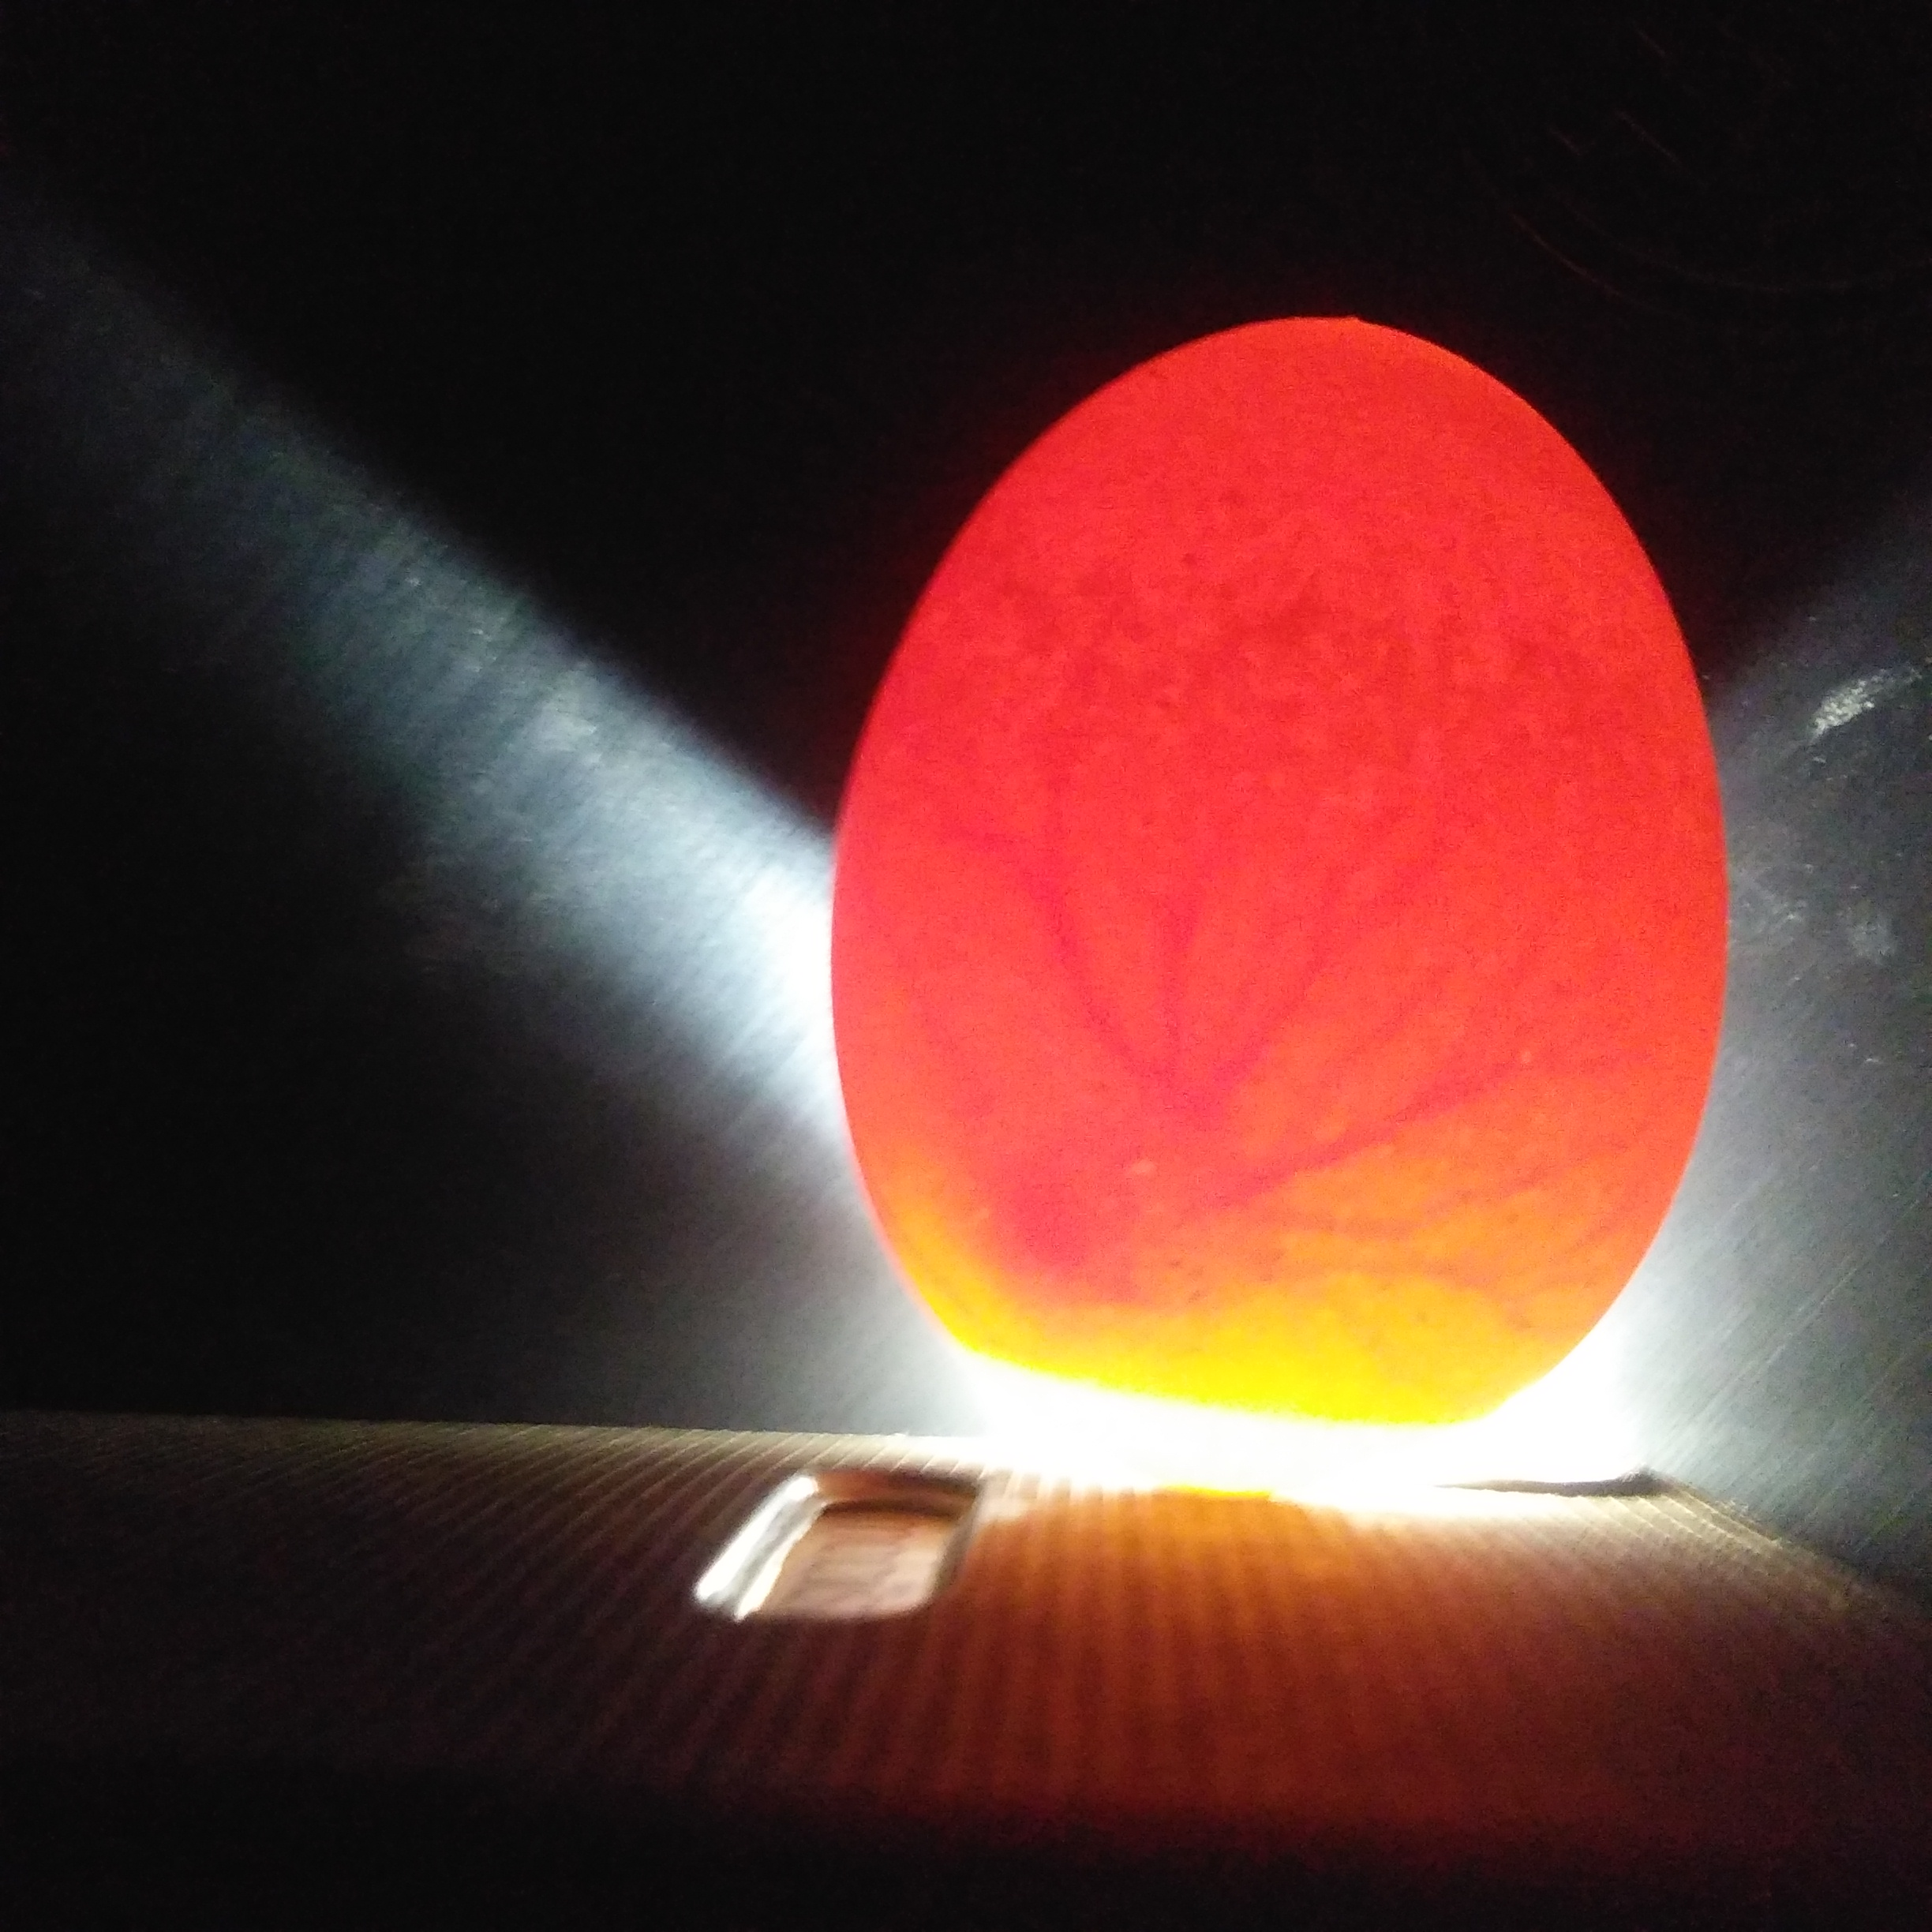bloodcell: (1051, 947, 1315, 1152), (1391, 1072, 1598, 1297)
embryo: (1033, 1214, 1178, 1309)
